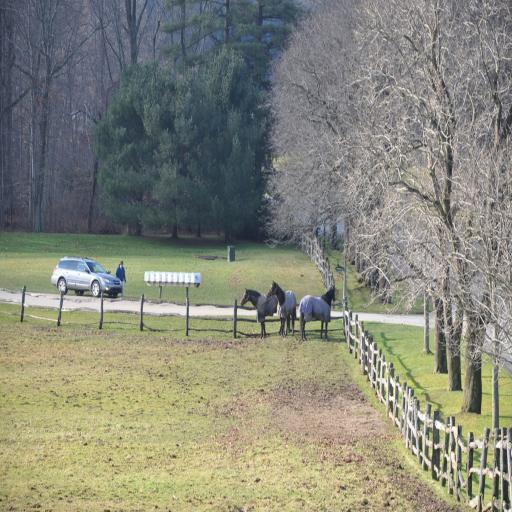horse: (298, 281, 341, 346), (240, 287, 284, 340), (265, 280, 297, 340)
